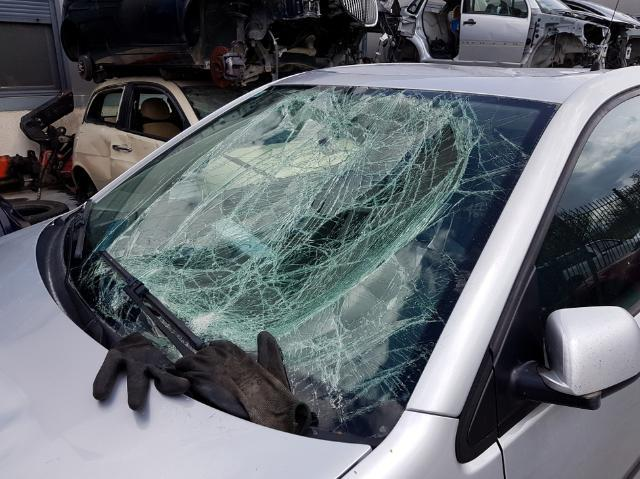Windshield: (63, 87, 502, 393)
